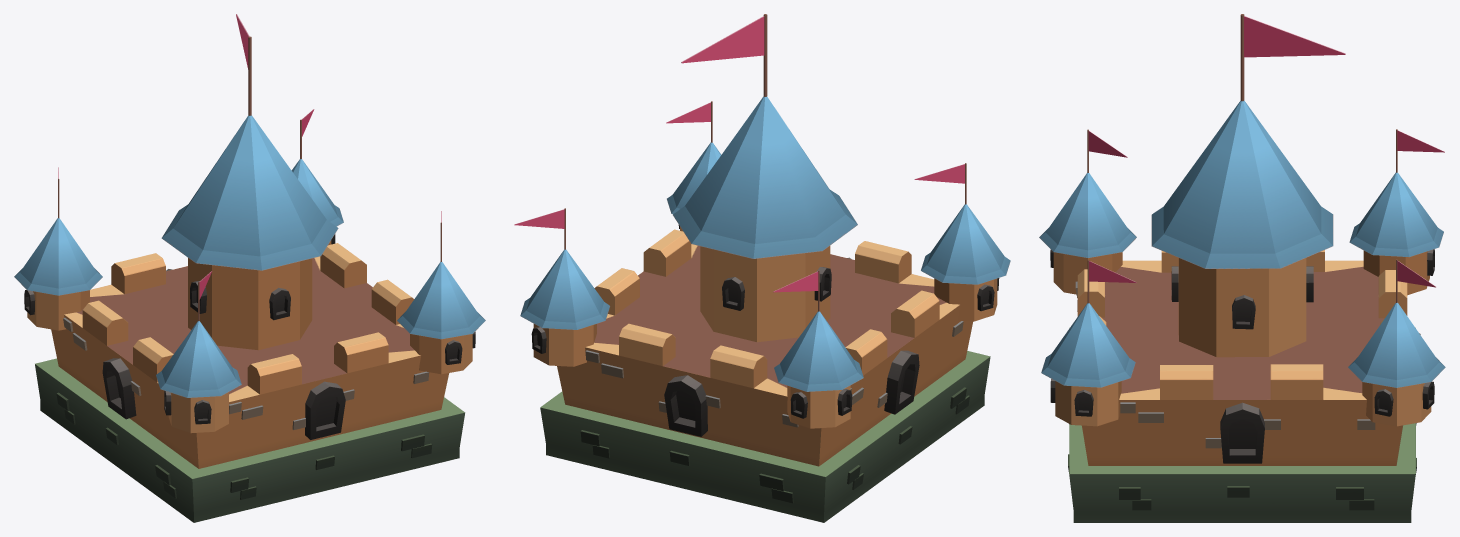
The model's file is Castle_Model.fbx.
3 views of the same model, side by side, from view 1: azimuth 30°, elevation 25°; view 2: azimuth 150°, elevation 25°; view 3: azimuth 270°, elevation 25° (orthographic). The views are drawn at different scales.
Parts seen in each view (by area): view 1: Castle_Model; view 2: Castle_Model; view 3: Castle_Model.
Boxes of the visible parts, left/top/right/bottom form: Castle_Model: left=14, top=14, right=485, bottom=522; Castle_Model: left=514, top=14, right=1010, bottom=522; Castle_Model: left=1039, top=14, right=1445, bottom=522.
Size of the model in its own units: 21.89 by 26.99 by 21.93.
Materials: 2 (1 with a texture image).
